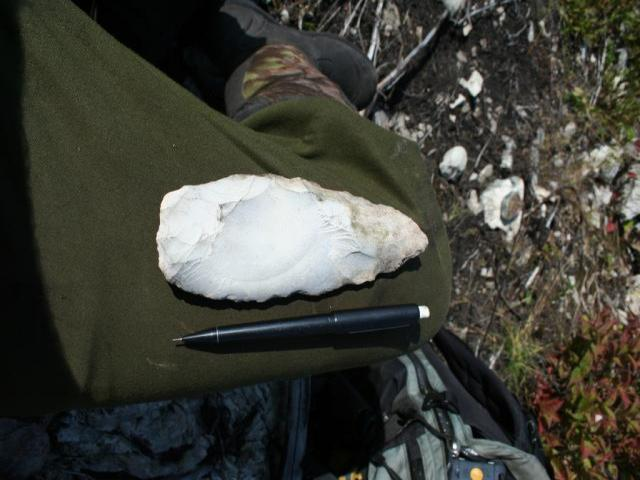PEN: (162, 294, 439, 367)
